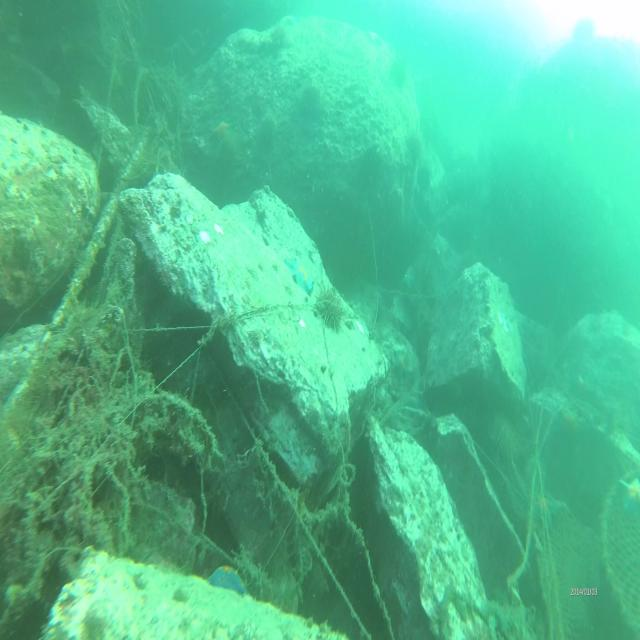echinus: (487, 404, 519, 464), (316, 286, 346, 332), (299, 79, 322, 115)
starfish: (208, 560, 246, 596), (532, 487, 560, 532), (286, 256, 316, 296), (619, 476, 640, 523), (210, 119, 233, 147)
